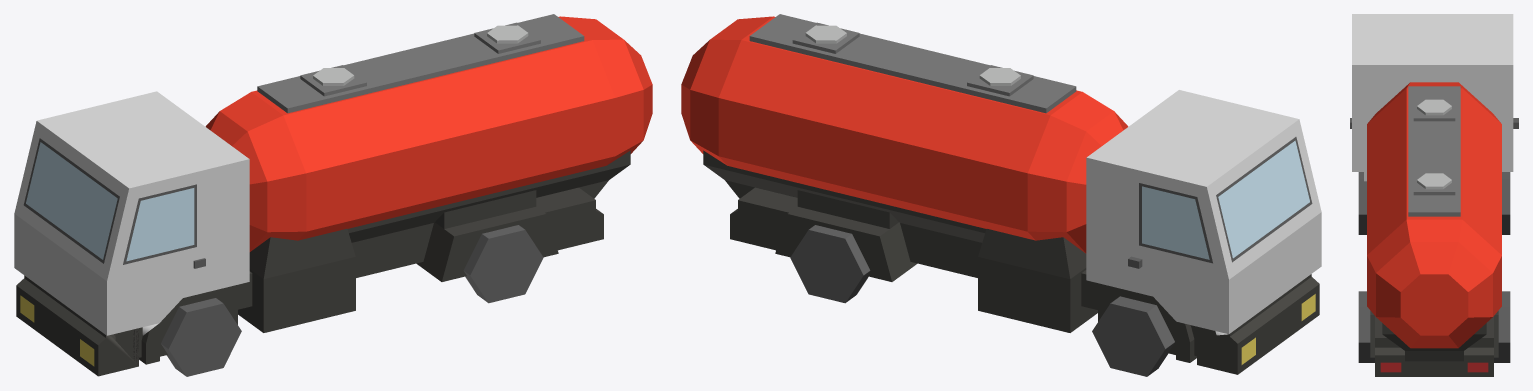
Rendered from Gas_Truck.fbx.
3 views of the same model, side by side, from view 1: azimuth 30°, elevation 25°; view 2: azimuth 150°, elevation 25°; view 3: azimuth 270°, elevation 25° (orthographic). The views are drawn at different scales.
Parts seen in each view (by area): view 1: Gas_Truck; view 2: Gas_Truck; view 3: Gas_Truck.
Part boxes in pixels (x1=…): Gas_Truck: x1=14, y1=14, x2=652, y2=376; Gas_Truck: x1=681, y1=14, x2=1321, y2=376; Gas_Truck: x1=1350, y1=14, x2=1518, y2=376.
Size of the model in its own units: 10.94 by 4.04 by 3.19.
1 material, 1 textured.
